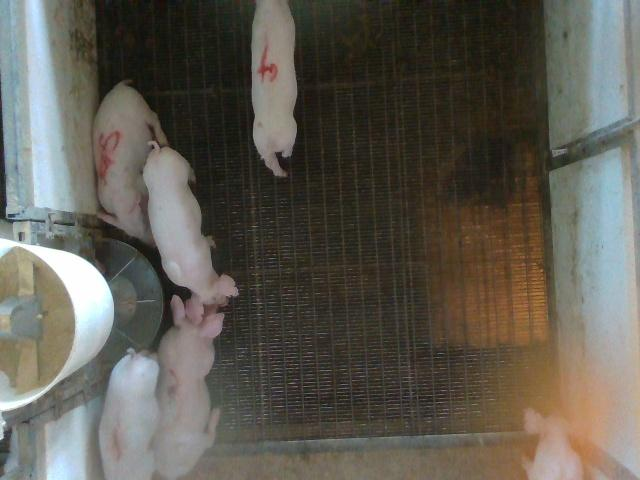pig-1: (99, 349, 159, 479)
pig-3: (99, 296, 224, 479)
pig-4: (251, 0, 298, 176)
pig-5: (92, 80, 168, 246)
